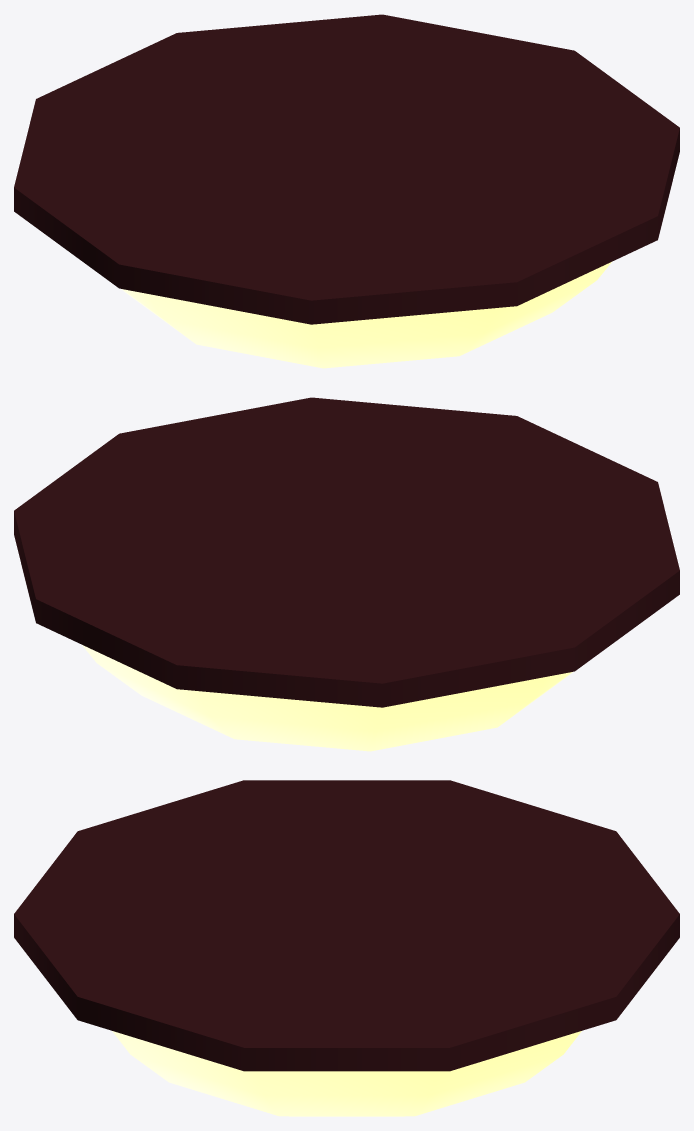
Rendered from PLAFONIERA.glb.
3 renders of one model, top to bottom at view 1: azimuth 30°, elevation 25°; view 2: azimuth 150°, elevation 25°; view 3: azimuth 270°, elevation 25°, orthographic. The views are drawn at different scales.
Parts seen in each view (by area): view 1: Light_Ceiling5_Cylinder.034; view 2: Light_Ceiling5_Cylinder.034; view 3: Light_Ceiling5_Cylinder.034.
Boxes of the visible parts, <box> form: Light_Ceiling5_Cylinder.034: <box>14,14,679,368</box>; Light_Ceiling5_Cylinder.034: <box>14,397,679,751</box>; Light_Ceiling5_Cylinder.034: <box>14,780,679,1116</box>.
Size of the model in its own units: 0.5311 by 0.1363 by 0.5584.
